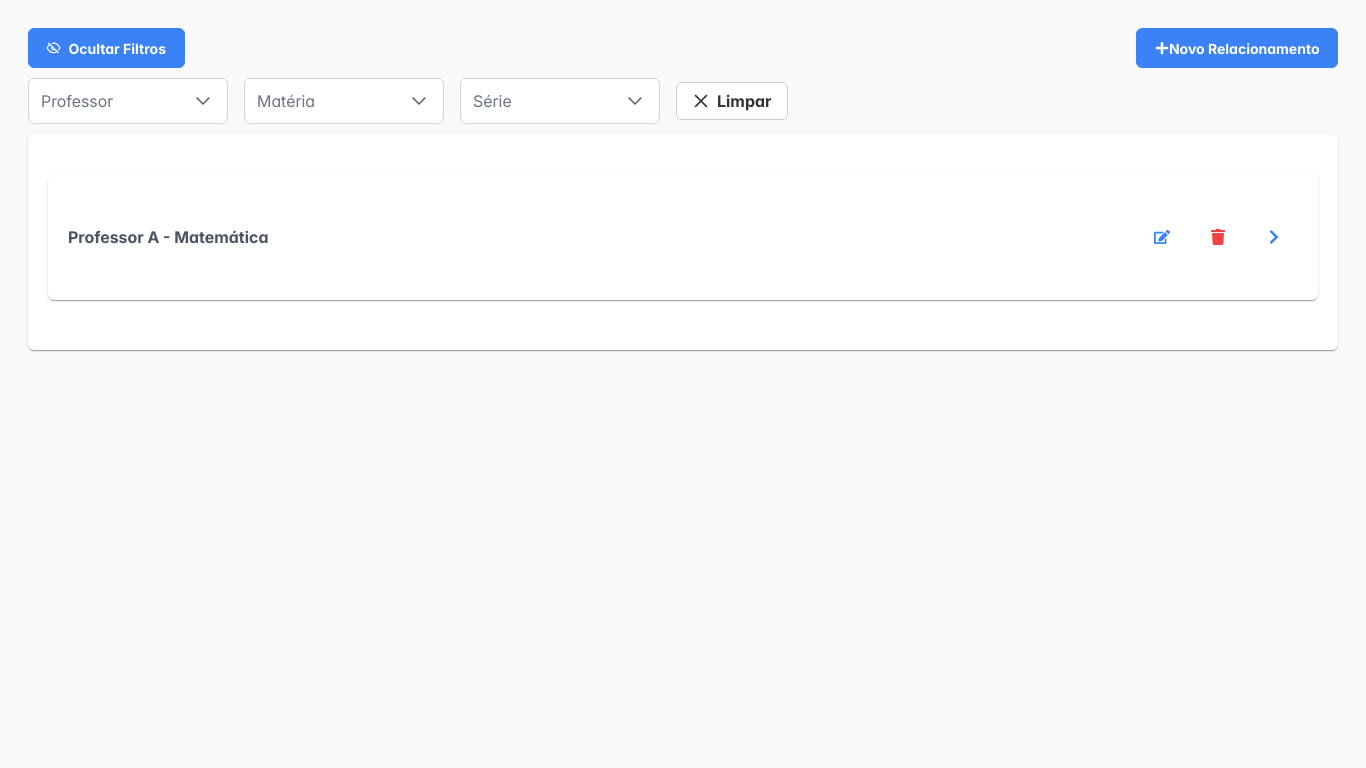
Test: Professores › deve abrir o modal de novo relacionamento ao clicar em "Adicionar Relacionamento"
Click the button "Novo Relacionamento" at [1237, 48], box [1136,28,1338,68]
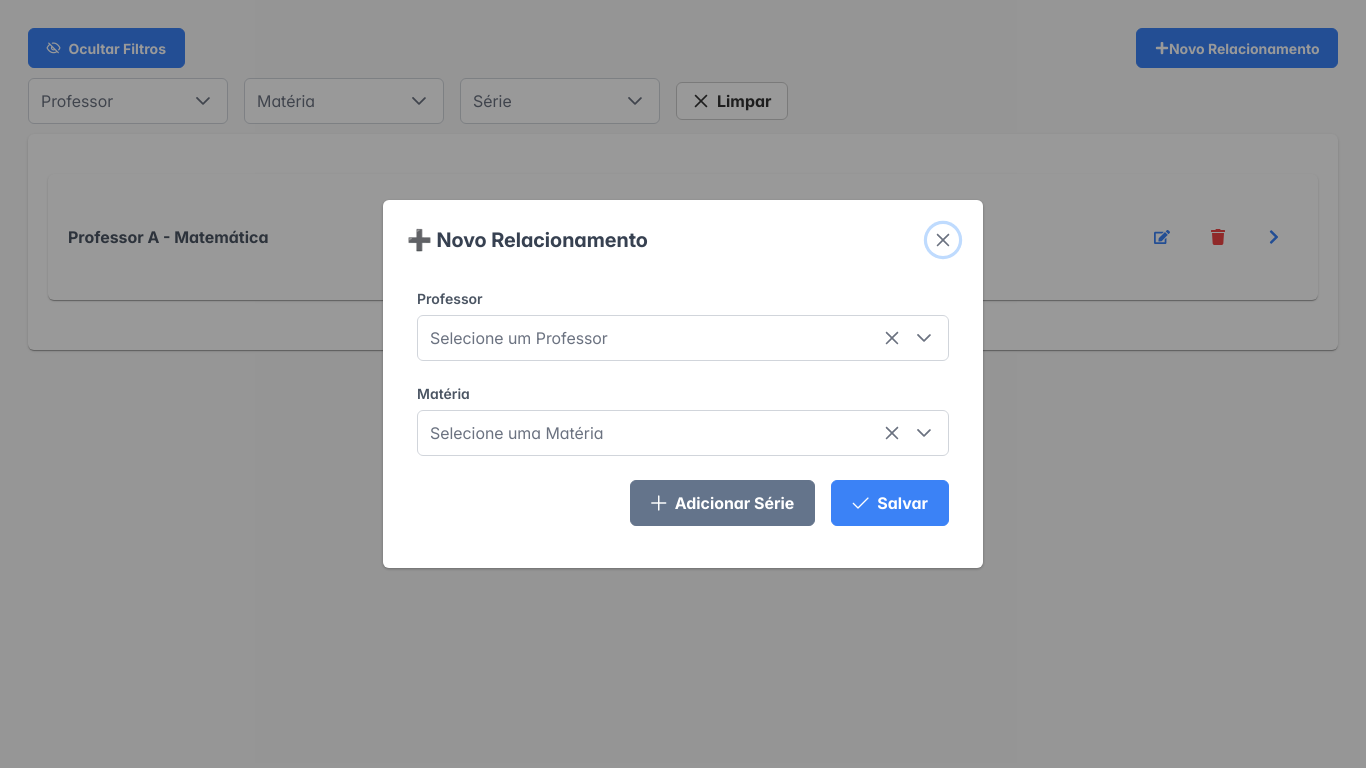
expect the text "➕ Novo Relacionamento" is shown: met, box [407,228,648,252]
